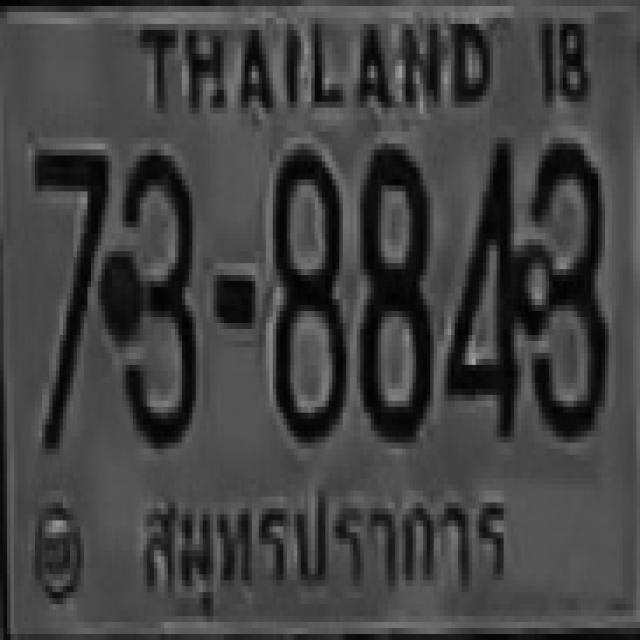3: (107, 144, 194, 442)
4: (444, 132, 521, 436)
7: (31, 144, 105, 448)
8: (525, 138, 605, 436), (356, 144, 426, 436), (271, 144, 341, 436)
SamutPrakan: (124, 473, 519, 623)
